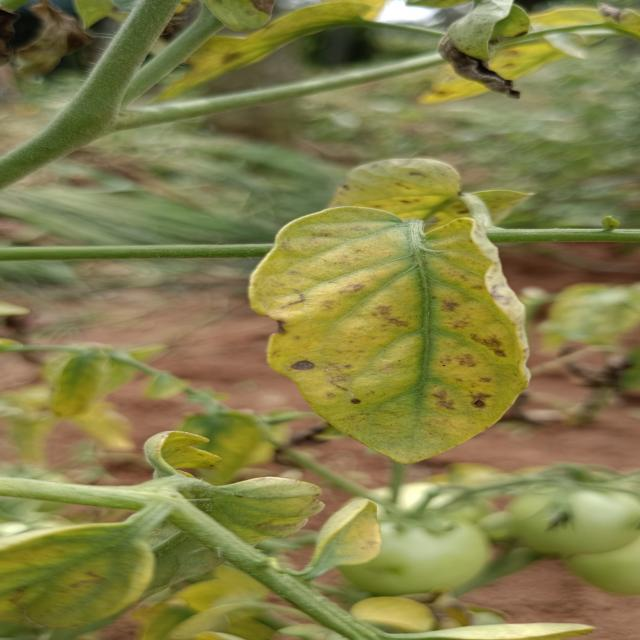tomato_early blight: (241, 187, 529, 459), (130, 427, 333, 585), (161, 2, 395, 92), (0, 524, 166, 640), (426, 0, 543, 102), (0, 0, 91, 79), (311, 498, 384, 574)
